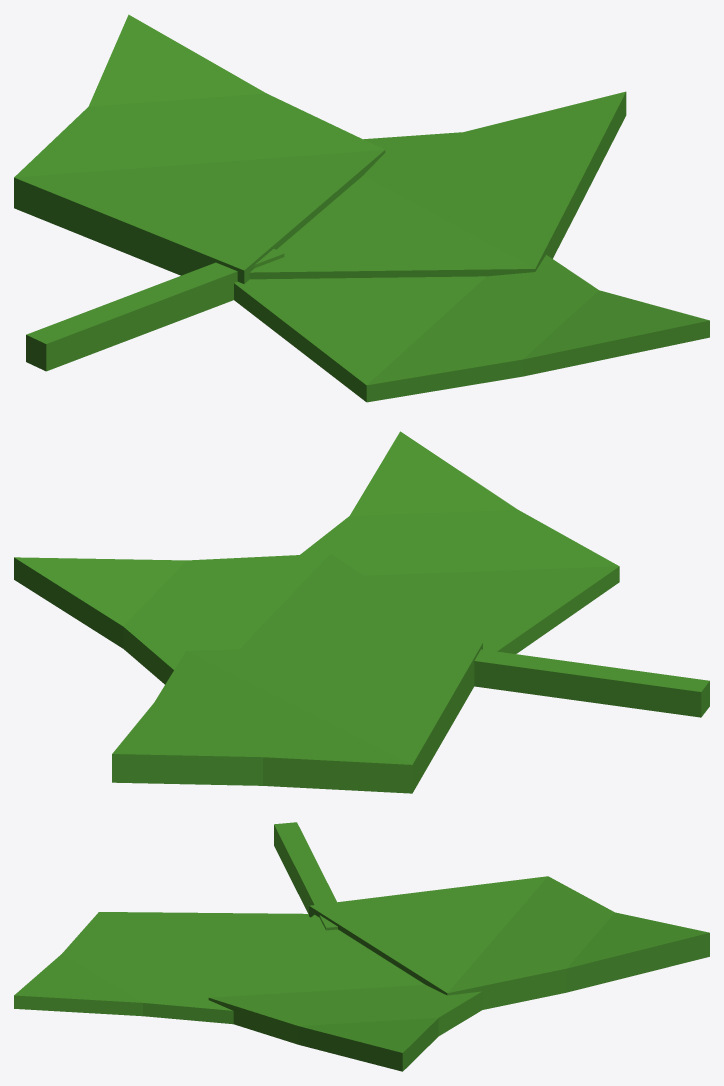
File: FMS_Veg_Parsley.fbx
3 views of the same model, one above another, from view 1: azimuth 30°, elevation 25°; view 2: azimuth 150°, elevation 25°; view 3: azimuth 270°, elevation 25° (orthographic). The views are drawn at different scales.
Visible parts, largest first — view 1: item_food_parsley; view 2: item_food_parsley; view 3: item_food_parsley.
Boxes of the visible parts, x1,y1,x2,y2 form: item_food_parsley: (14, 14, 709, 402); item_food_parsley: (14, 431, 709, 793); item_food_parsley: (14, 822, 709, 1071).
Size of the model in its own units: 0.0818 by 0.0076 by 0.0944.
Materials: 1 (1 with a texture image).
